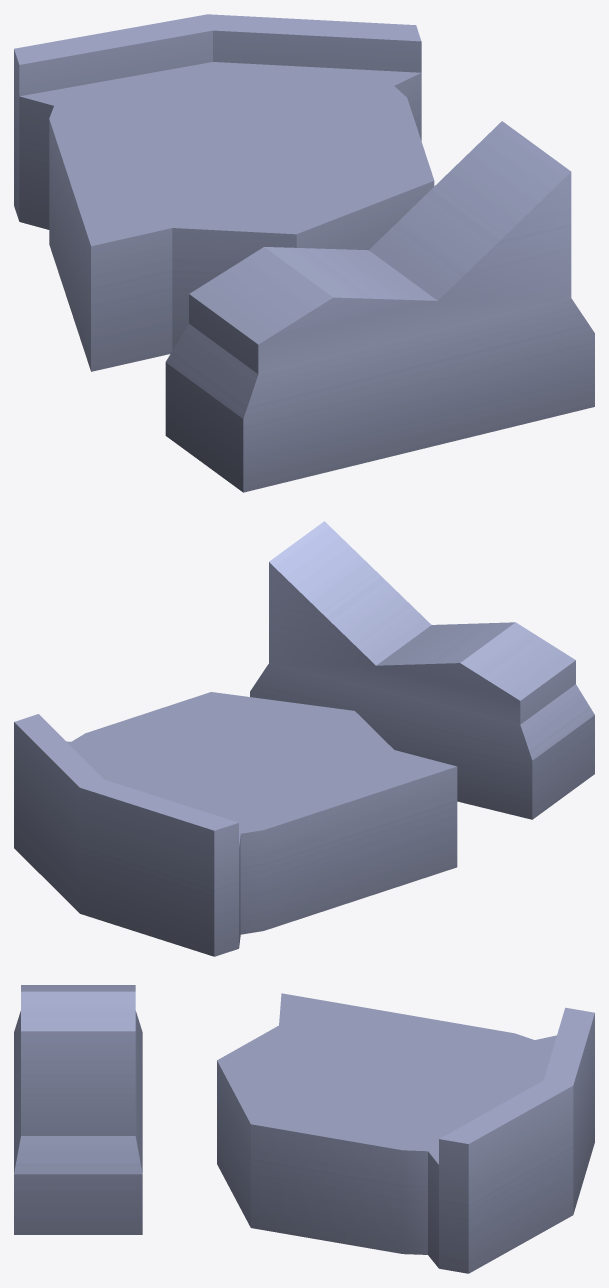
The model's file is gravestone-debris.glb.
The picture shows the model from 3 angles, top to bottom: view 1: azimuth 30°, elevation 25°; view 2: azimuth 150°, elevation 25°; view 3: azimuth 270°, elevation 25°; orthographic projection. The views are drawn at different scales.
Visible parts, largest first — view 1: Asset3DLoader.sceneRoot; view 2: Asset3DLoader.sceneRoot; view 3: Asset3DLoader.sceneRoot.
Part boxes in pixels (x1=…): Asset3DLoader.sceneRoot: x1=14, y1=14, x2=594, y2=492; Asset3DLoader.sceneRoot: x1=14, y1=521, x2=594, y2=956; Asset3DLoader.sceneRoot: x1=14, y1=985, x2=594, y2=1273.
Bounding box in the file's own units: 0.4968 × 0.251 × 0.6751.
Materials: 1 (1 with a texture image).
